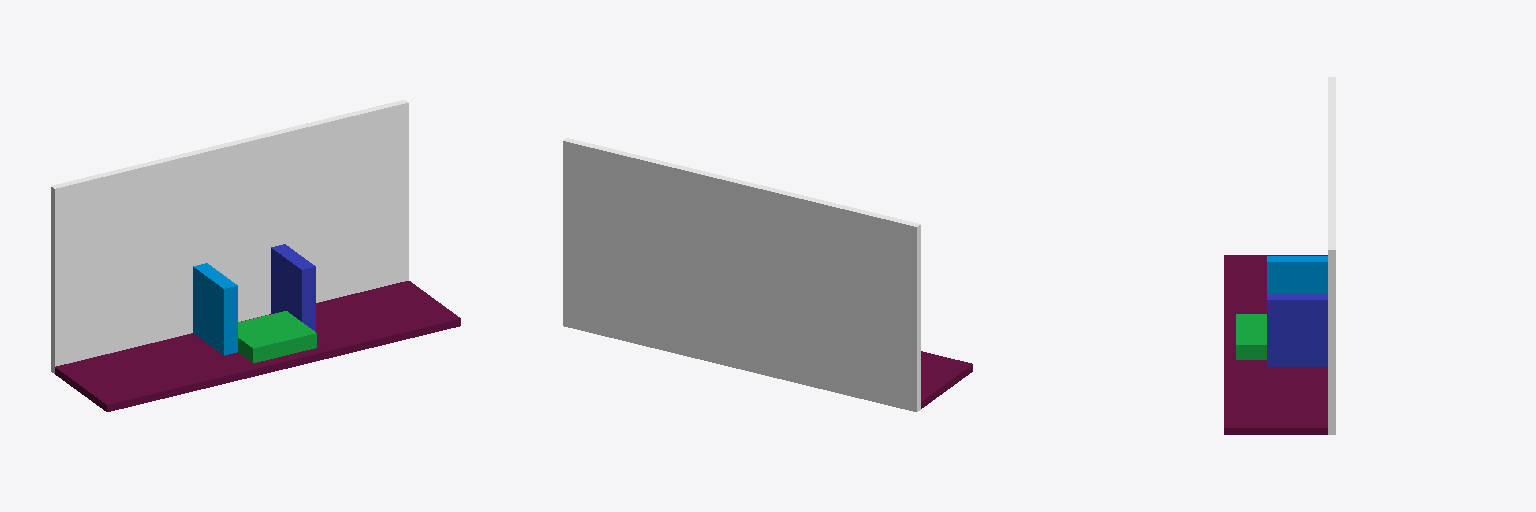
File: books-shelf-2.obj
The picture shows the model from 3 angles: view 1: azimuth 30°, elevation 25°; view 2: azimuth 150°, elevation 25°; view 3: azimuth 270°, elevation 25°; orthographic projection.
Visible parts, largest first — view 1: Object.2, Object.1, Object.4, Object.5, Object.3; view 2: Object.2, Object.1; view 3: Object.1, Object.5, Object.2, Object.4, Object.3.
Boxes of the visible parts, box(x1,y1,x2,y2) form: Object.2: box(51, 100, 408, 373); Object.1: box(55, 281, 460, 411); Object.4: box(193, 263, 237, 355); Object.5: box(271, 244, 315, 331); Object.3: box(238, 311, 316, 362); Object.2: box(563, 138, 920, 411); Object.1: box(921, 351, 972, 408); Object.1: box(1224, 255, 1327, 434); Object.5: box(1267, 294, 1327, 366); Object.2: box(1328, 77, 1335, 434); Object.4: box(1267, 256, 1327, 293); Object.3: box(1236, 314, 1266, 359).
Bounding box in the file's own units: 1000 × 500 × 276.